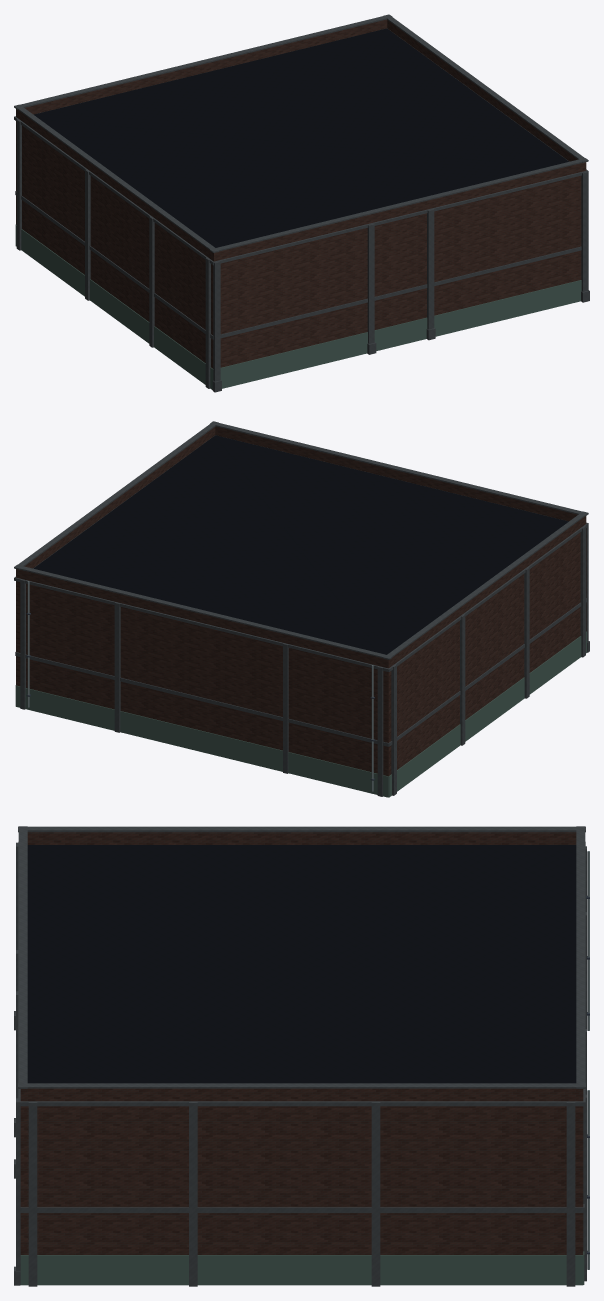
File: shell.glb
3 views of the same model, one above another, from view 1: azimuth 30°, elevation 25°; view 2: azimuth 150°, elevation 25°; view 3: azimuth 270°, elevation 25° (orthographic). The views are drawn at different scales.
Visible parts, largest first — view 1: shell_Brick, shell_Roof, shell_Concrete, shell_Plinth; view 2: shell_Brick, shell_Roof, shell_Concrete, shell_Plinth, shell_Trim; view 3: shell_Roof, shell_Brick, shell_Concrete, shell_Plinth, shell_Trim.
Boxes of the visible parts, bbox=[...] form: shell_Brick: bbox=[16, 19, 586, 368]; shell_Roof: bbox=[34, 28, 568, 247]; shell_Concrete: bbox=[14, 14, 589, 392]; shell_Plinth: bbox=[15, 224, 581, 389]; shell_Brick: bbox=[16, 426, 586, 776]; shell_Roof: bbox=[33, 435, 568, 654]; shell_Concrete: bbox=[14, 421, 589, 796]; shell_Plinth: bbox=[15, 631, 586, 797]; shell_Trim: bbox=[27, 581, 373, 791]; shell_Roof: bbox=[27, 845, 576, 1083]; shell_Brick: bbox=[20, 832, 583, 1254]; shell_Concrete: bbox=[14, 826, 586, 1286]; shell_Plinth: bbox=[20, 1251, 584, 1285]; shell_Trim: bbox=[587, 851, 589, 1269].
Size of the model in its own units: 25.12 by 8.88 by 23.33.
Materials: 6 (3 with a texture image).
